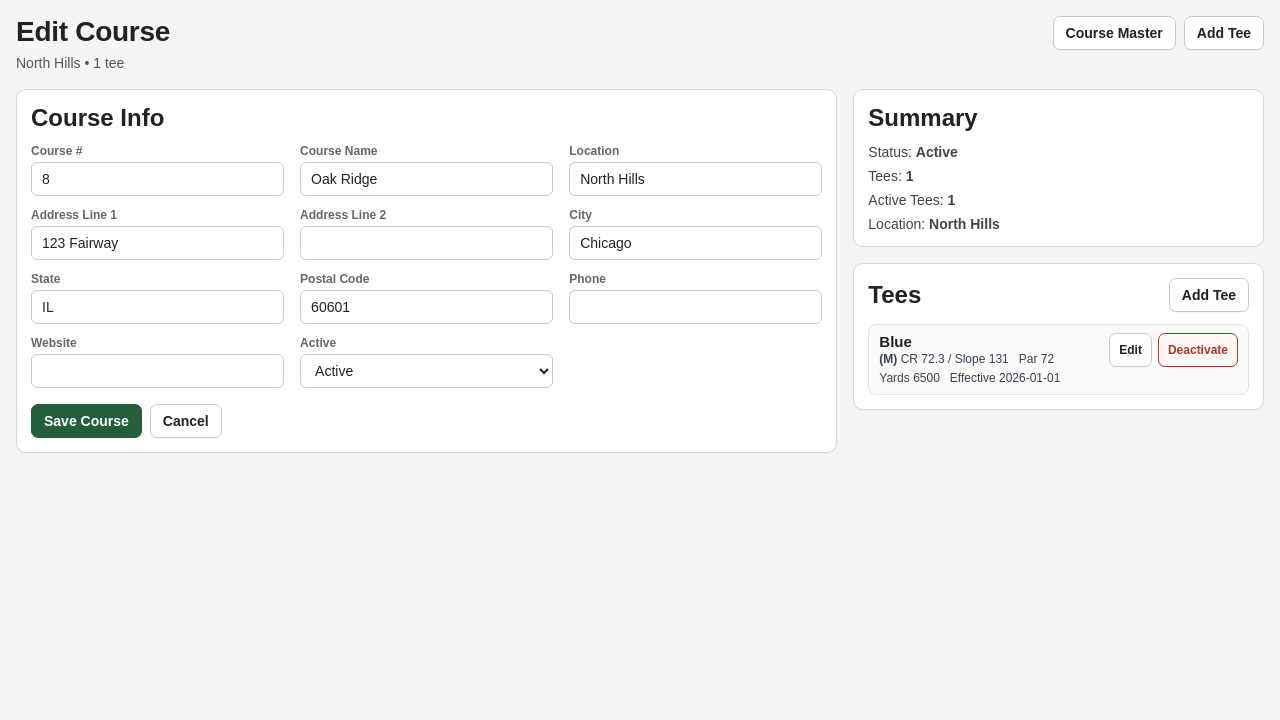
Test: Course administration edit page characterization (before extraction) › saves edited course fields with whitespace trimmed
Expected: the heading "Course Info" is shown, [31,104,164,131]
Replace the text in the field below "Course Name" with "  New Name  ". click: (427, 179)
box: [300,162,553,196]
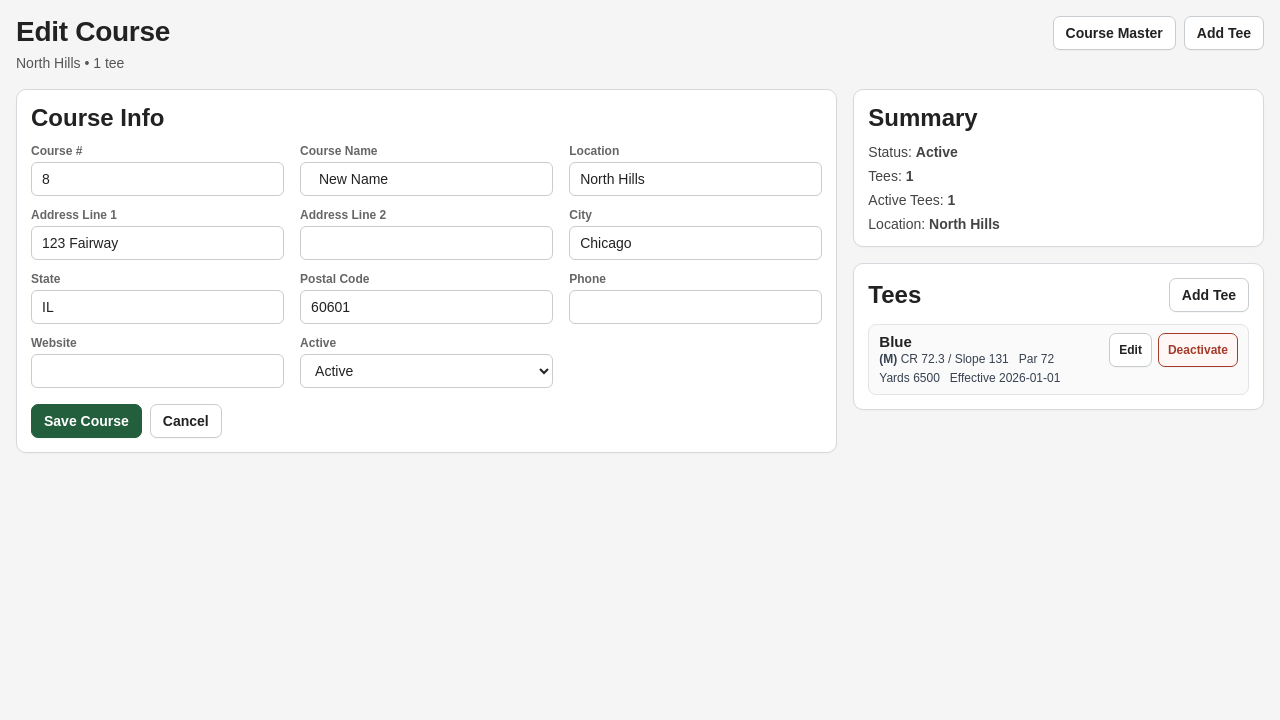
Replace the text in the 2nd field with "  East  ". click: (696, 179)
box: [569,162,822,196]
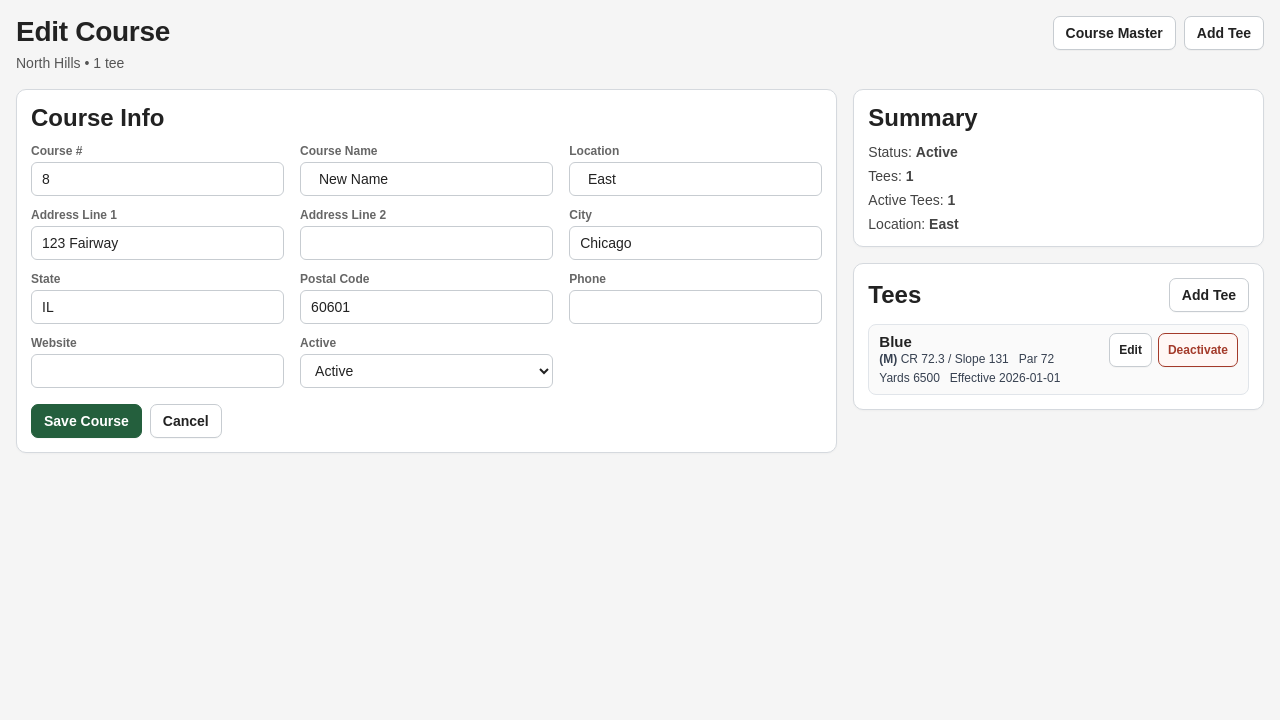
Click the button "Save Course". click: (86, 421)
box: [31,404,142,438]
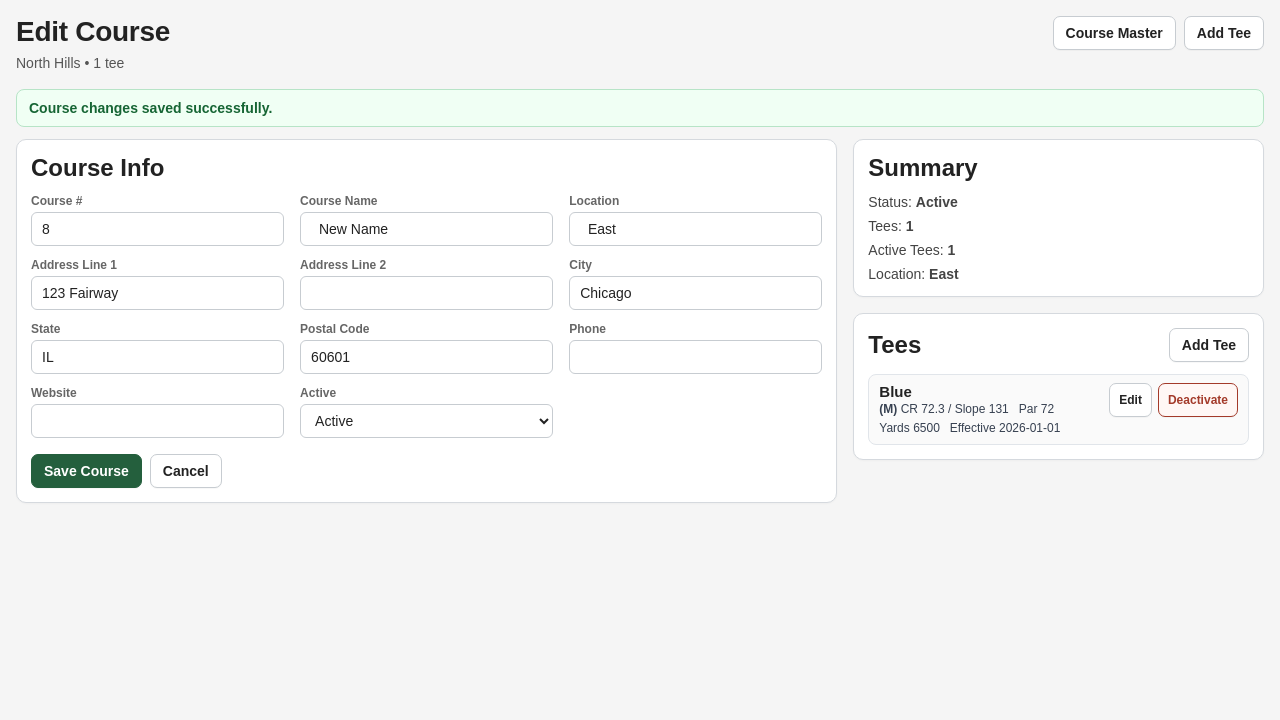
Expected: the text "Course changes saved successfully." is shown, [16,89,1264,127]
